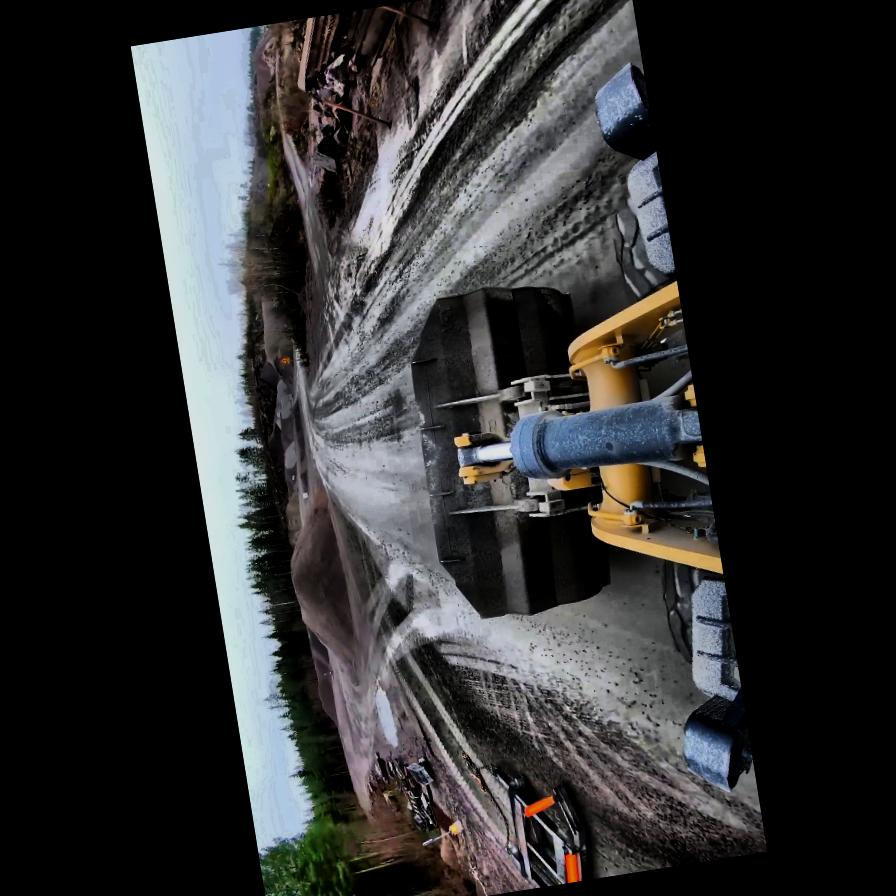anchor: (450, 427, 516, 485)
pile of gravel: (241, 306, 322, 523), (277, 490, 359, 656), (256, 296, 298, 371), (307, 632, 337, 720)
